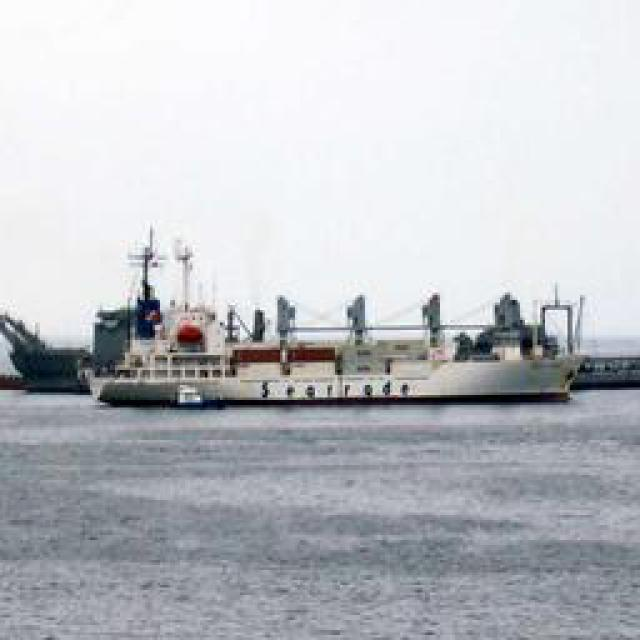Ship: (82, 285, 585, 413)
